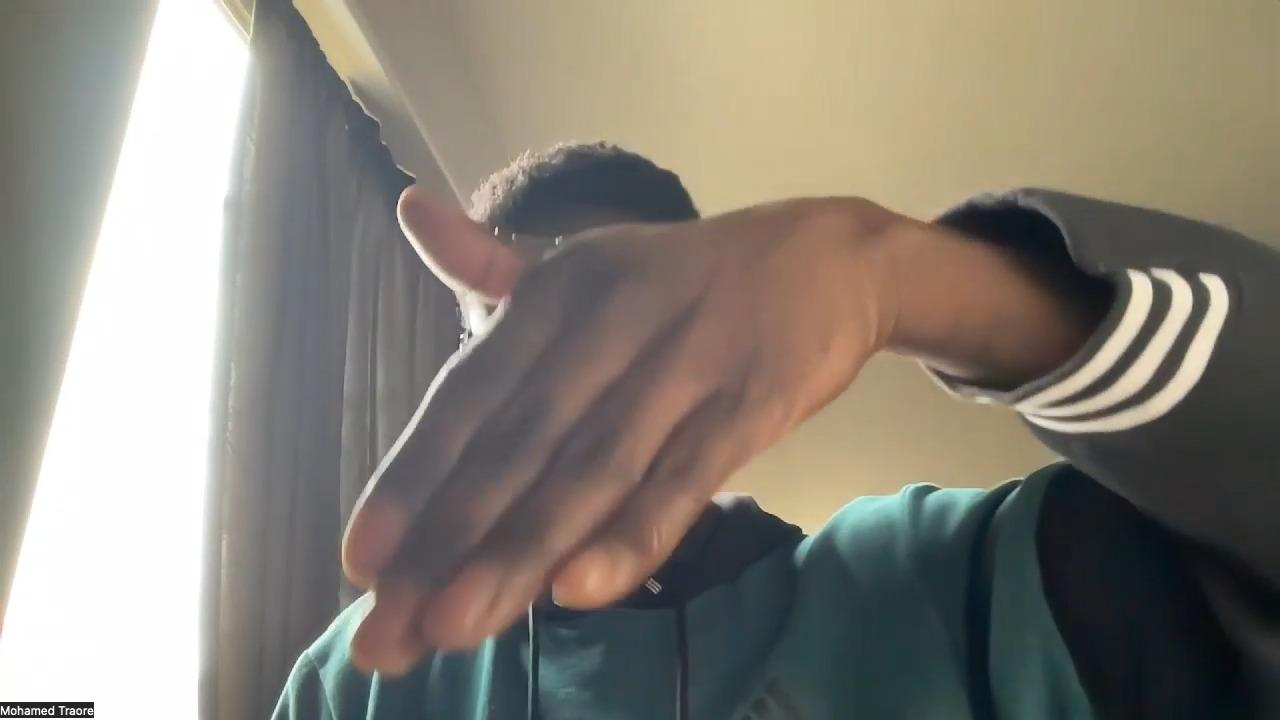Paper: (340, 185, 875, 677)
